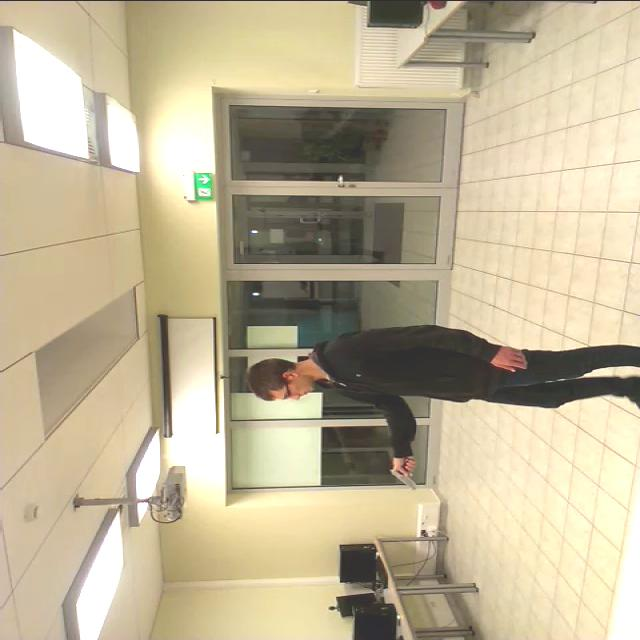handgun: (386, 456, 433, 498)
